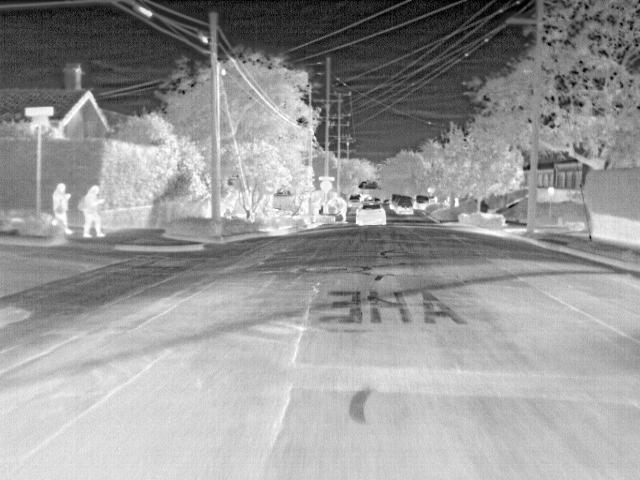car: (354, 203, 388, 228), (397, 197, 415, 215), (388, 194, 403, 210), (392, 196, 408, 211), (415, 194, 430, 209), (346, 195, 360, 208)
person: (81, 183, 108, 239), (52, 181, 74, 236)
